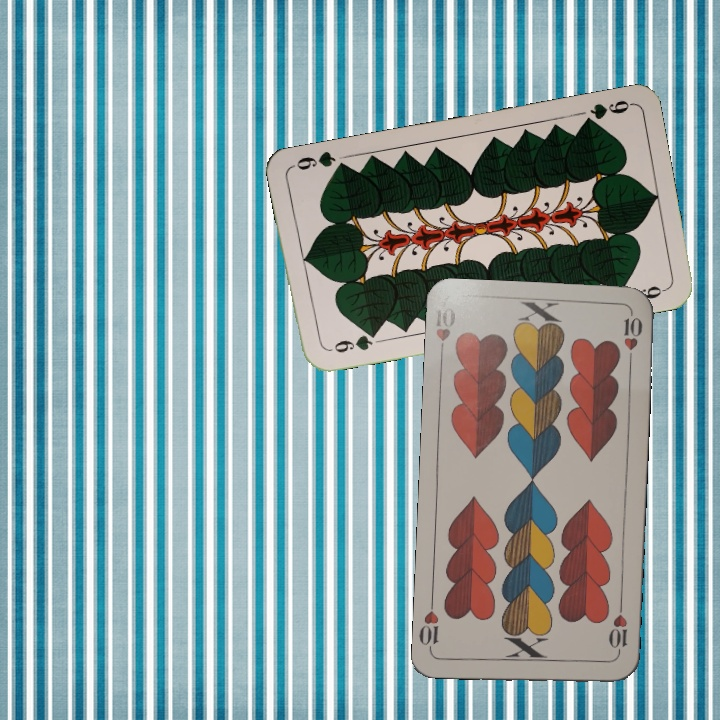G9: (577, 96, 634, 129), (323, 327, 381, 356)
H10: (432, 304, 459, 362), (605, 600, 630, 659)
